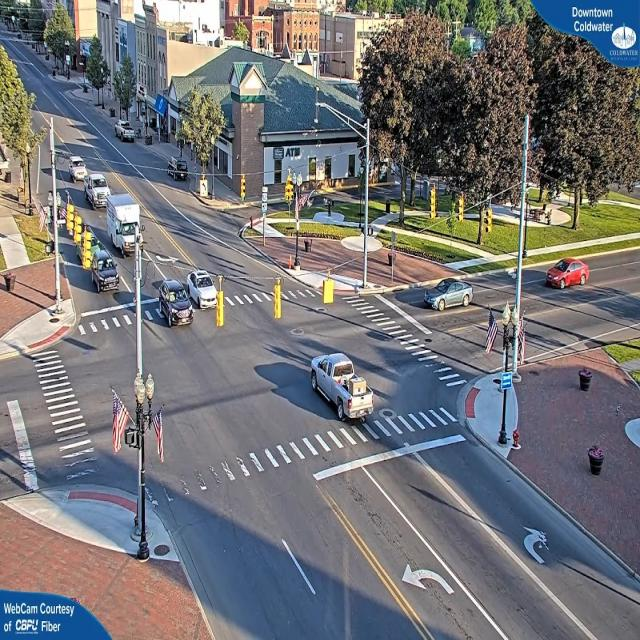car: (308, 351, 372, 425), (154, 279, 196, 328), (425, 277, 474, 310), (546, 257, 592, 290), (90, 249, 120, 291), (185, 272, 218, 310), (84, 172, 109, 210), (165, 158, 189, 180), (116, 123, 136, 143)
truck: (111, 195, 146, 257)
